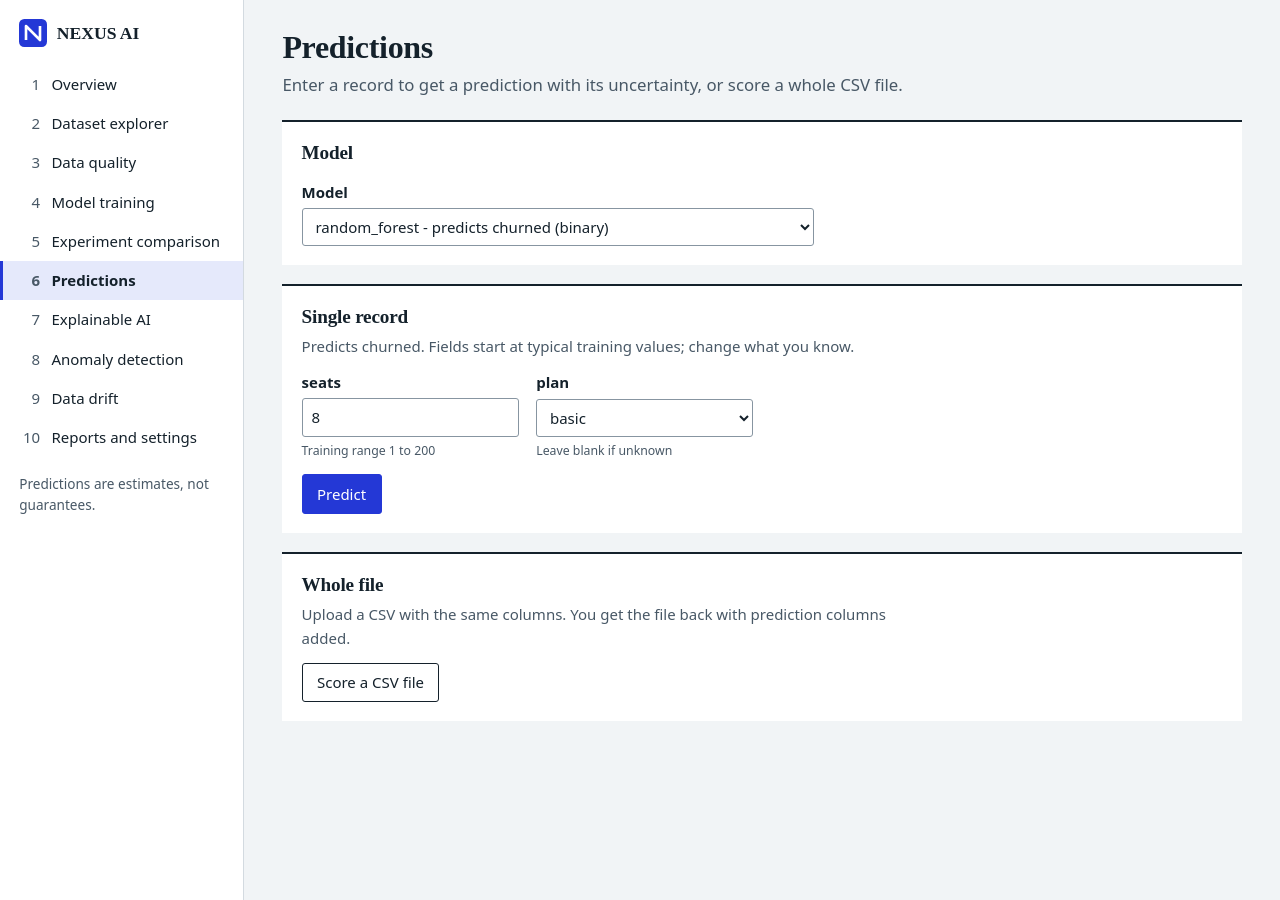
Test case: predictions page › shows the server's message when prediction fails
Click the button "Predict" at (342, 494), box [302,474,382,514]
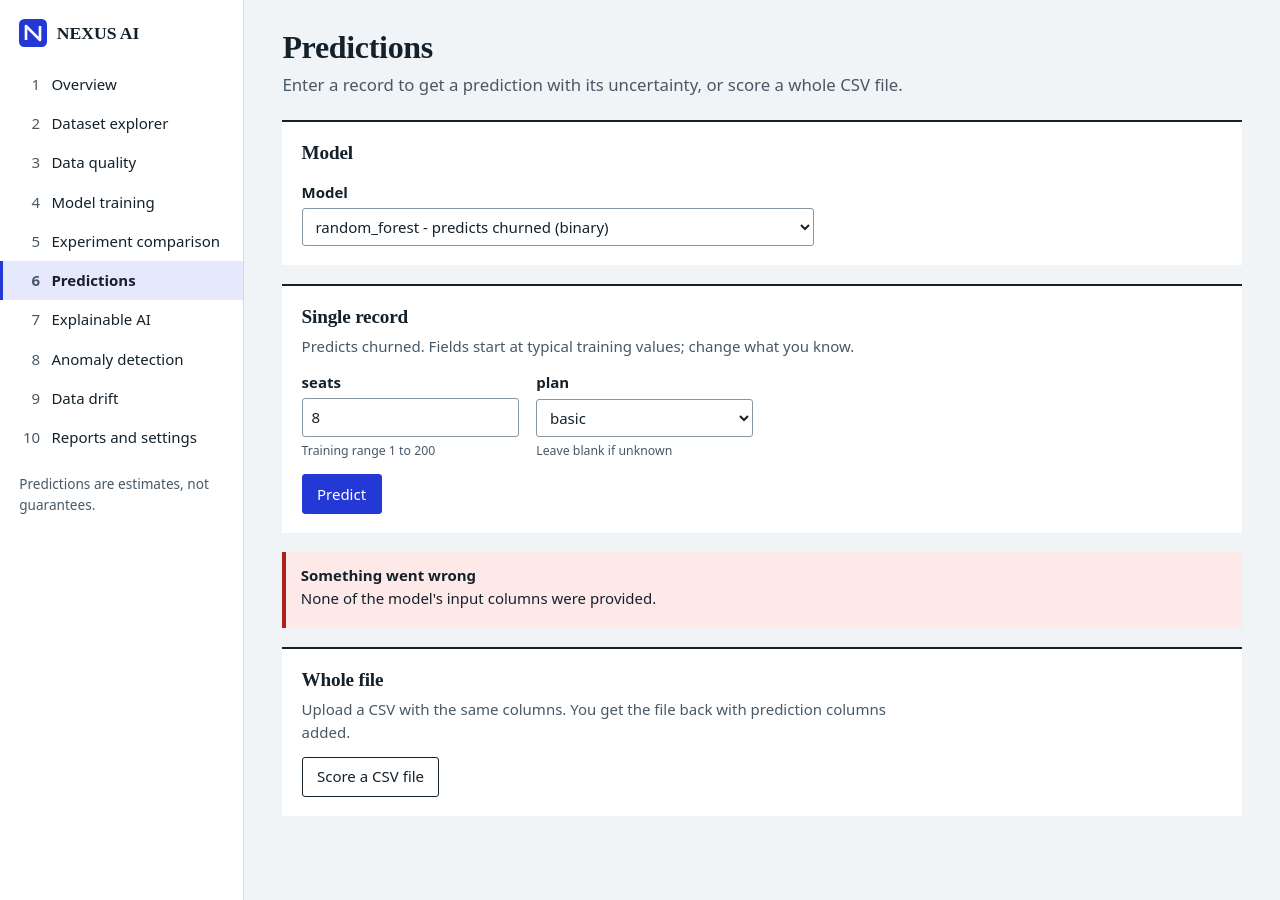
Check: the message shows "None of the model's input columns", box [301,588,656,608]
